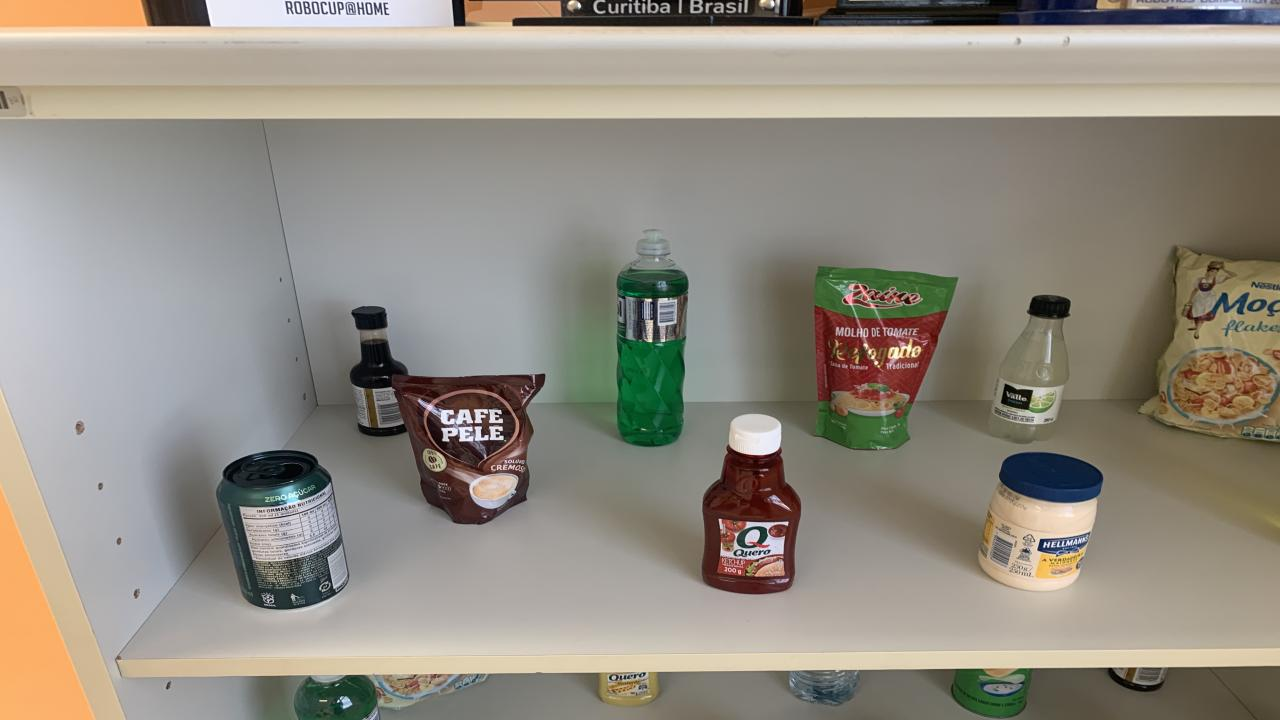Coffee-Pantry_Items: (390, 375, 545, 523)
Detergent-Cleanup_Items: (618, 229, 688, 446), (295, 675, 380, 720)
English_Sauce-Pantry_Items: (350, 306, 408, 435), (1108, 668, 1168, 692)
Flakes-Snacks: (1140, 248, 1280, 442), (370, 673, 488, 709)
Guarana_Can-Drinks: (218, 450, 348, 609)
Ketchup-Pantry_Items: (702, 414, 800, 594)
Mayonnaise-Pantry_Items: (980, 452, 1102, 591)
Mustard-Pantry_Items: (598, 671, 660, 707)
Pringles-Snacks: (952, 668, 1032, 718)
Soda-Drinks: (990, 294, 1070, 444)
Tomato_Sauce-Pantry_Items: (815, 266, 958, 448)
Tonic-Drinks: (218, 450, 348, 609)
Water_Bottle-Drinks: (790, 669, 860, 707)
